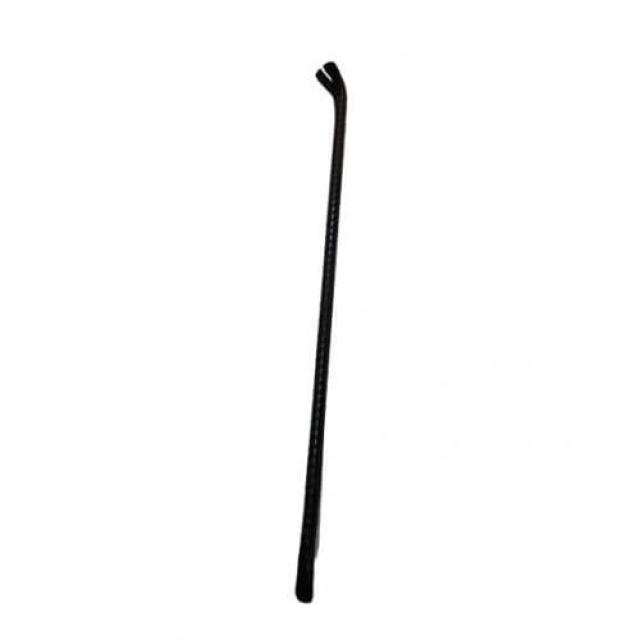Linggis: (294, 61, 351, 603)
